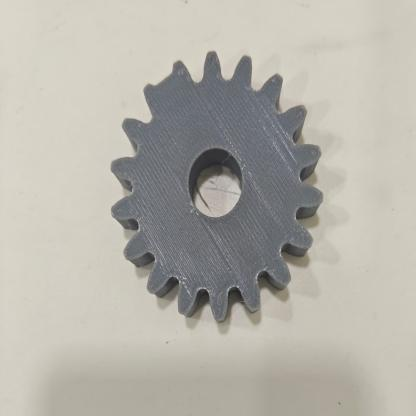defect: (133, 41, 212, 124)
gear: (74, 27, 360, 355)
